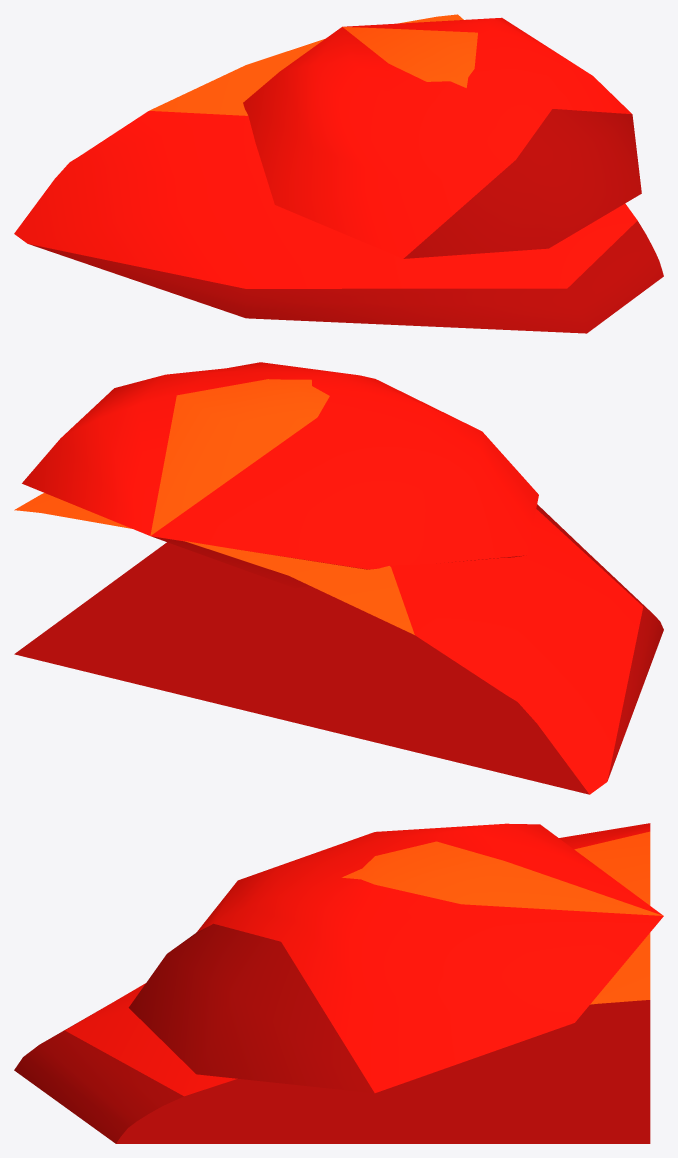
File: shot_zflame_218.glb
The picture shows the model from 3 angles, top to bottom: view 1: azimuth 30°, elevation 25°; view 2: azimuth 150°, elevation 25°; view 3: azimuth 270°, elevation 25°; orthographic projection. The views are drawn at different scales.
Parts seen in each view (by area): view 1: zflame_8_bed_b218, zflame_8_billow3_b218; view 2: zflame_8_bed_b218, zflame_8_billow3_b218; view 3: zflame_8_billow3_b218, zflame_8_bed_b218.
Part boxes in pixels (<box>): zflame_8_bed_b218: <box>14,14,663,333</box>; zflame_8_billow3_b218: <box>243,17,641,258</box>; zflame_8_bed_b218: <box>14,493,663,794</box>; zflame_8_billow3_b218: <box>22,362,538,588</box>; zflame_8_billow3_b218: <box>128,823,663,1093</box>; zflame_8_bed_b218: <box>14,823,650,1143</box>.
Bounding box in the file's own units: 6.96 × 2.13 × 5.9.
